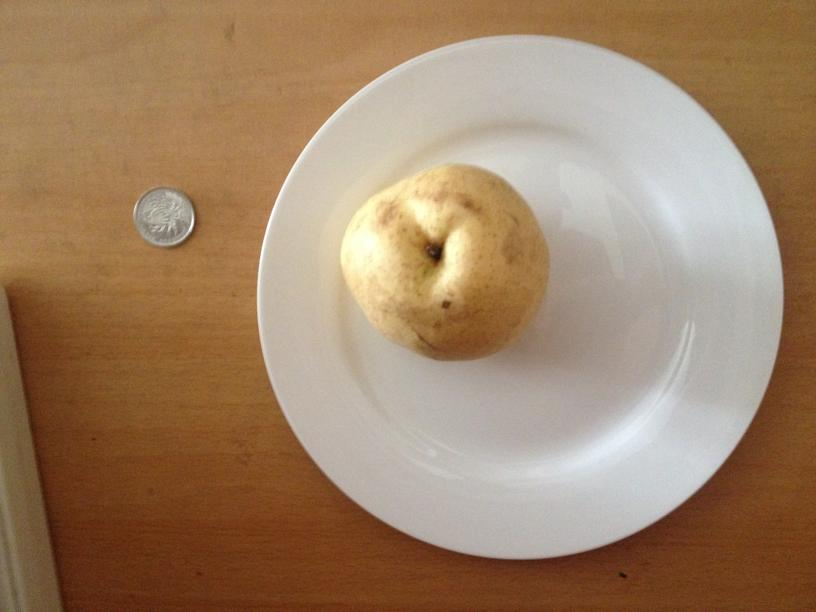coin: (131, 189, 196, 246)
pear: (338, 160, 550, 360)
